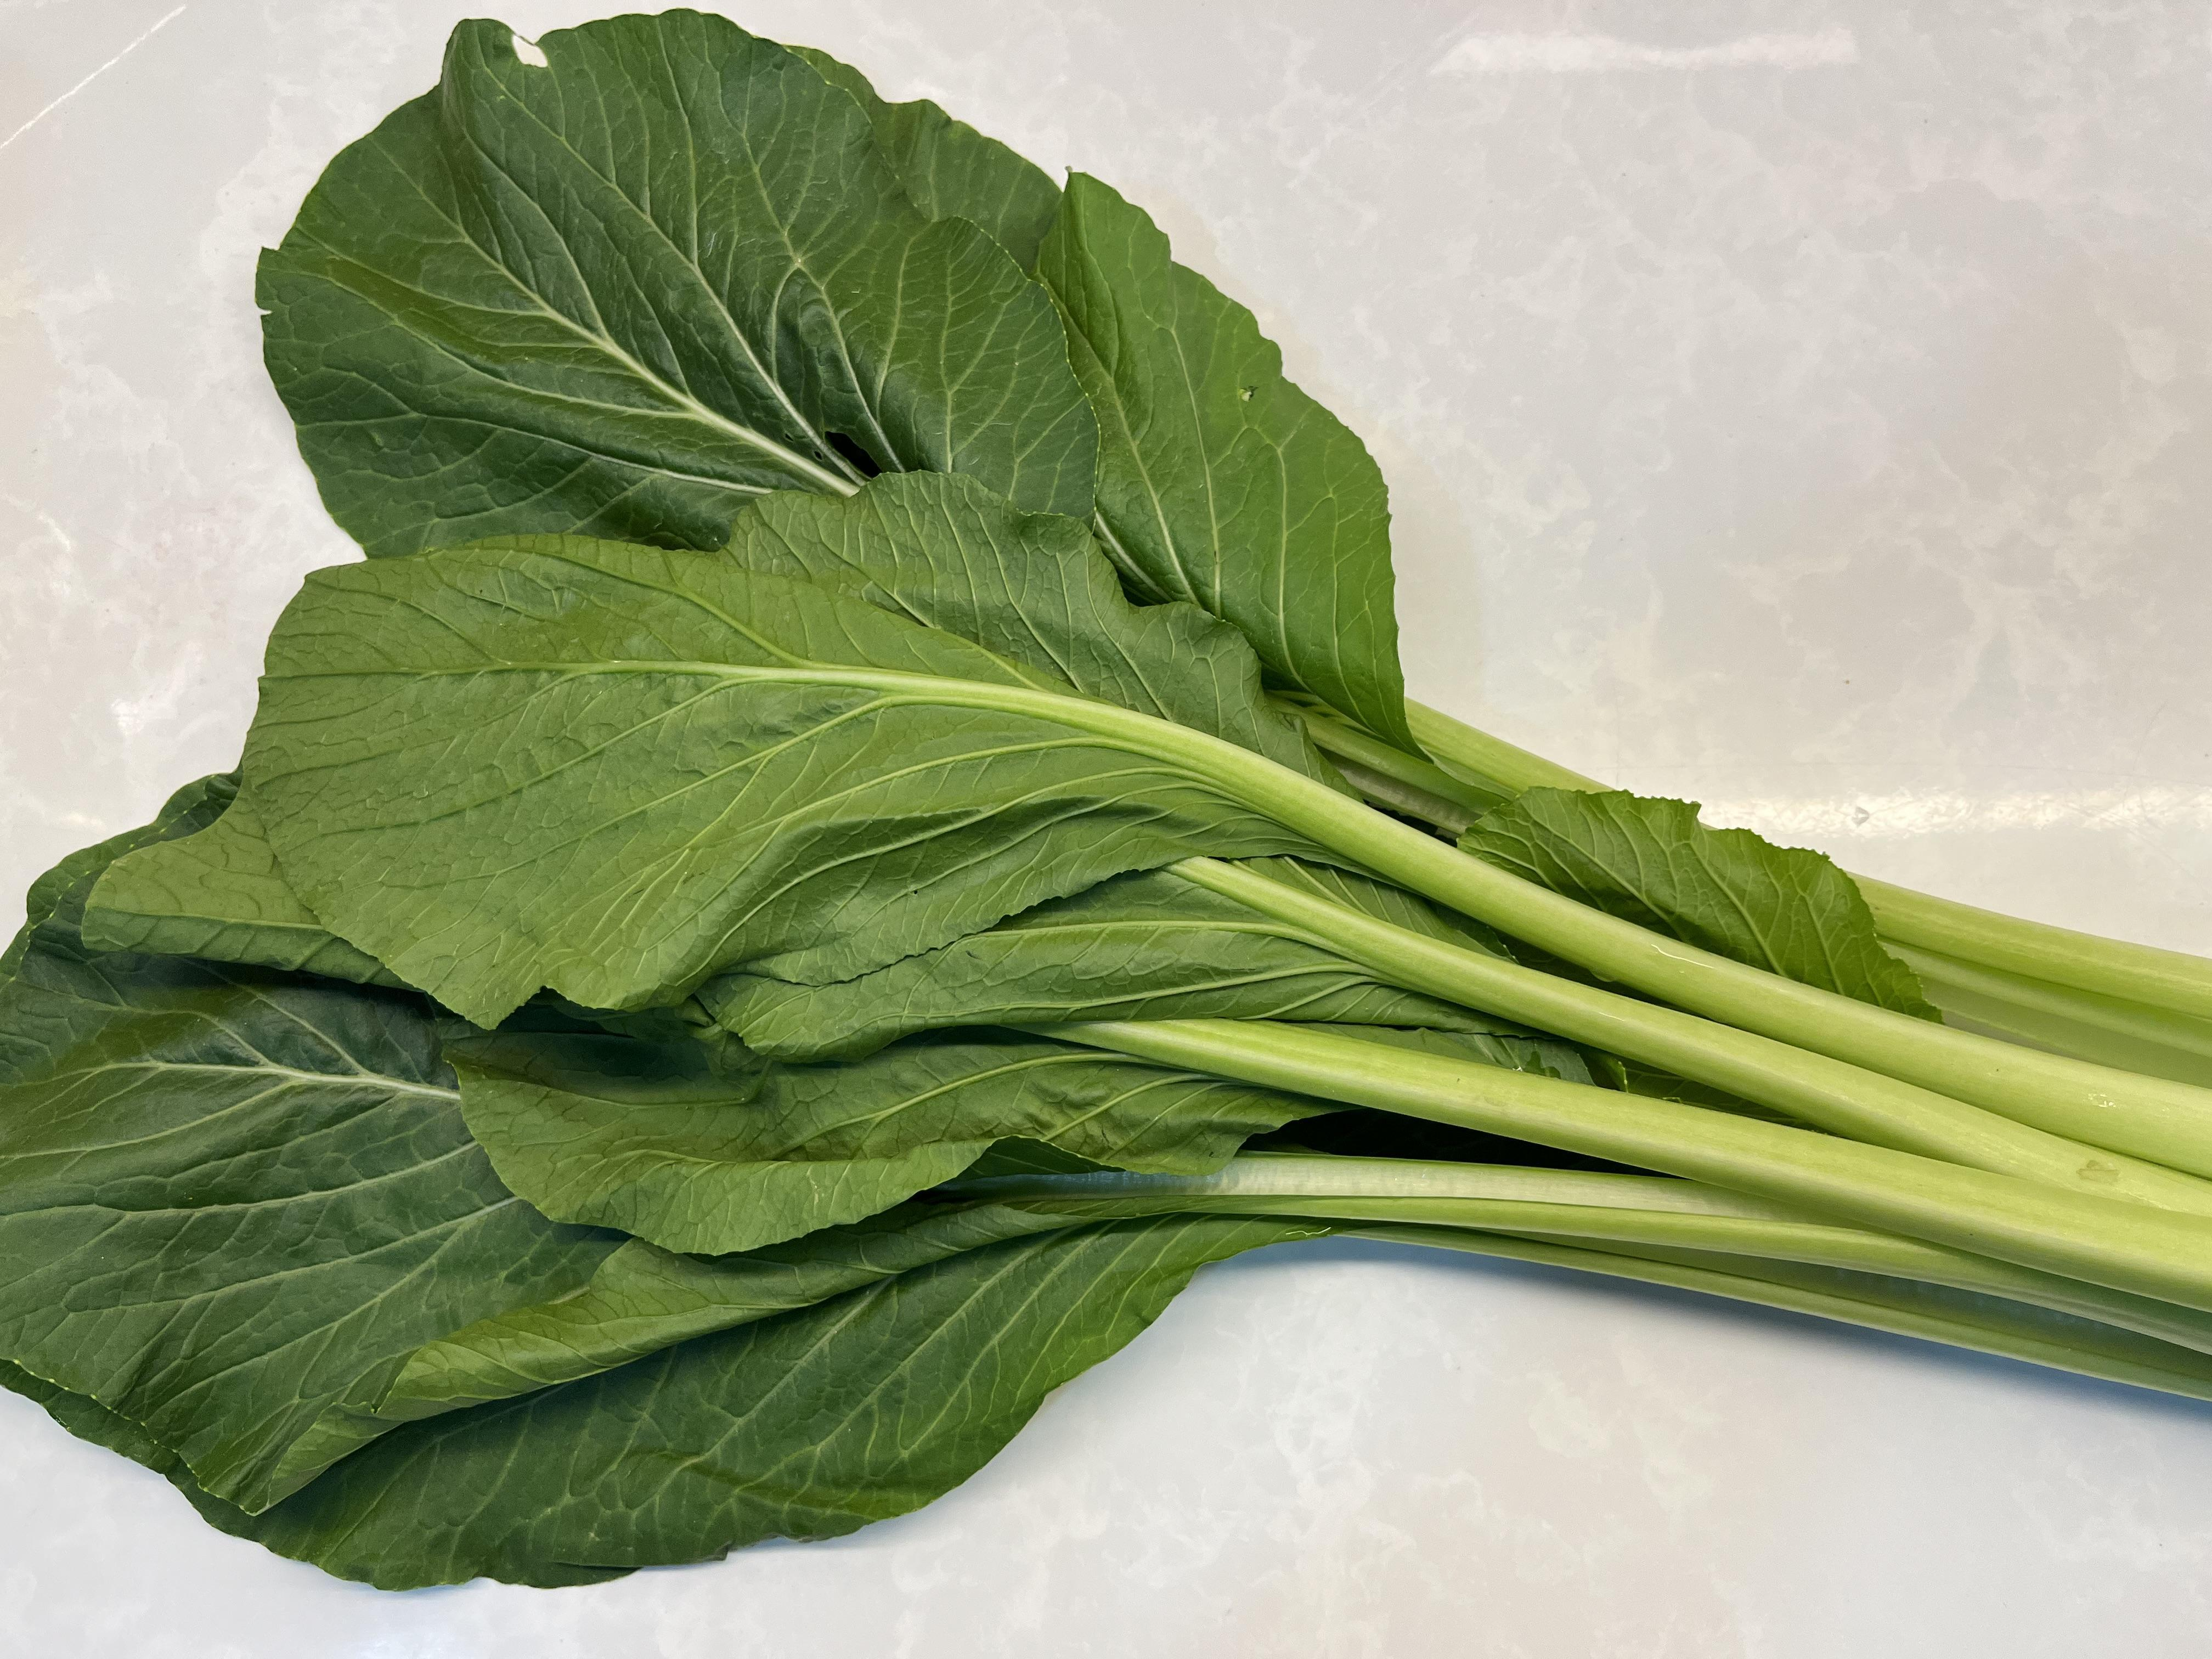Healthy-Pechay: (0, 61, 2212, 1466)
